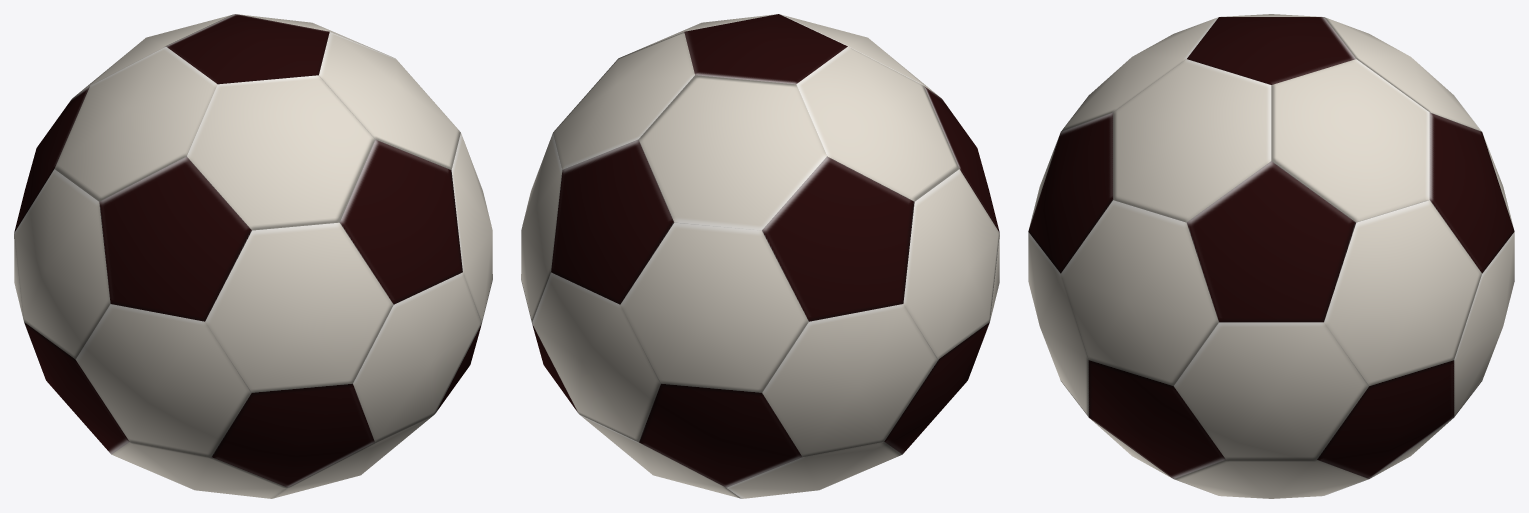
Rendered from ball.FBX.
3 renders of one model, left to right at view 1: azimuth 30°, elevation 25°; view 2: azimuth 150°, elevation 25°; view 3: azimuth 270°, elevation 25°, orthographic.
Parts seen in each view (by area): view 1: bg_ball; view 2: bg_ball; view 3: bg_ball.
Boxes of the visible parts, x1,y1,x2,y2 form: bg_ball: [14, 14, 492, 498]; bg_ball: [521, 14, 999, 498]; bg_ball: [1028, 14, 1514, 498].
Bounding box in the file's own units: 3.94 × 4 × 3.93.
